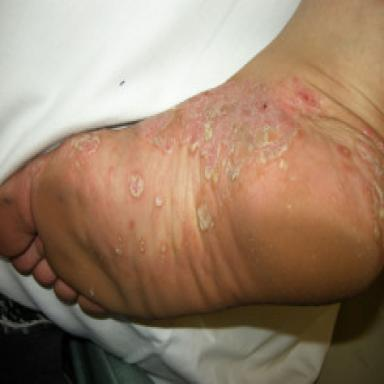eczema: (127, 85, 298, 185), (335, 127, 384, 246), (292, 77, 321, 115), (70, 131, 99, 153), (197, 202, 215, 231), (113, 233, 127, 264), (130, 174, 144, 197), (137, 236, 146, 254), (159, 239, 167, 258), (155, 195, 165, 207)
